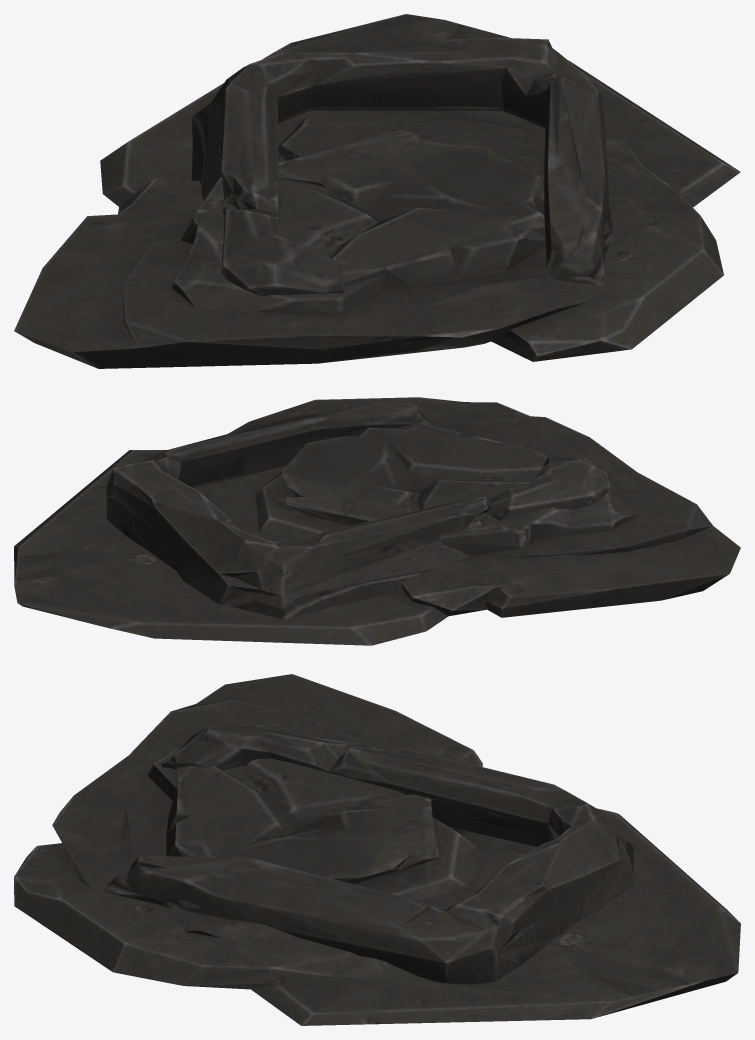
File: badside_rocks006_b.gltf
3 renders of one model, top to bottom at view 1: azimuth 30°, elevation 25°; view 2: azimuth 150°, elevation 25°; view 3: azimuth 270°, elevation 25°, orthographic. The views are drawn at different scales.
Visible parts, largest first — view 1: badside_rocks006.vmdl_c.badside_rocks006_model; view 2: badside_rocks006.vmdl_c.badside_rocks006_model; view 3: badside_rocks006.vmdl_c.badside_rocks006_model.
Boxes of the visible parts, x1,y1,x2,y2 form: badside_rocks006.vmdl_c.badside_rocks006_model: (14, 14, 740, 368); badside_rocks006.vmdl_c.badside_rocks006_model: (14, 397, 740, 645); badside_rocks006.vmdl_c.badside_rocks006_model: (14, 674, 740, 1025).
Bounding box in the file's own units: 9.66 × 1.01 × 8.98.
1 material, 1 textured.
